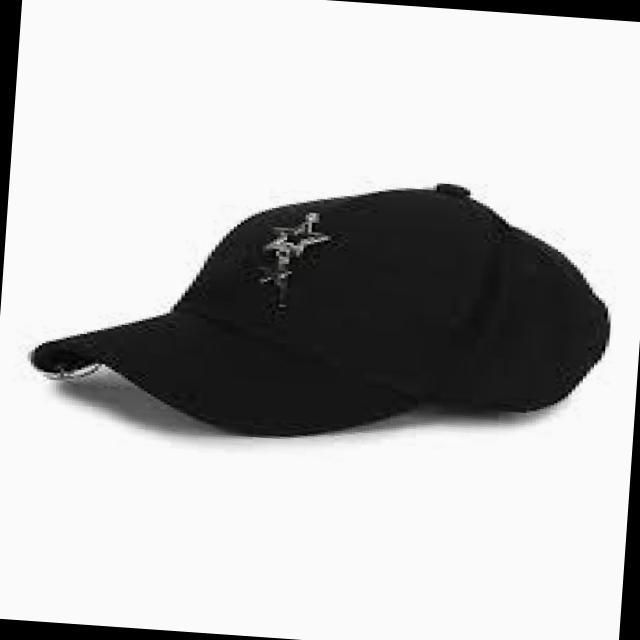cap: (0, 117, 627, 482)
